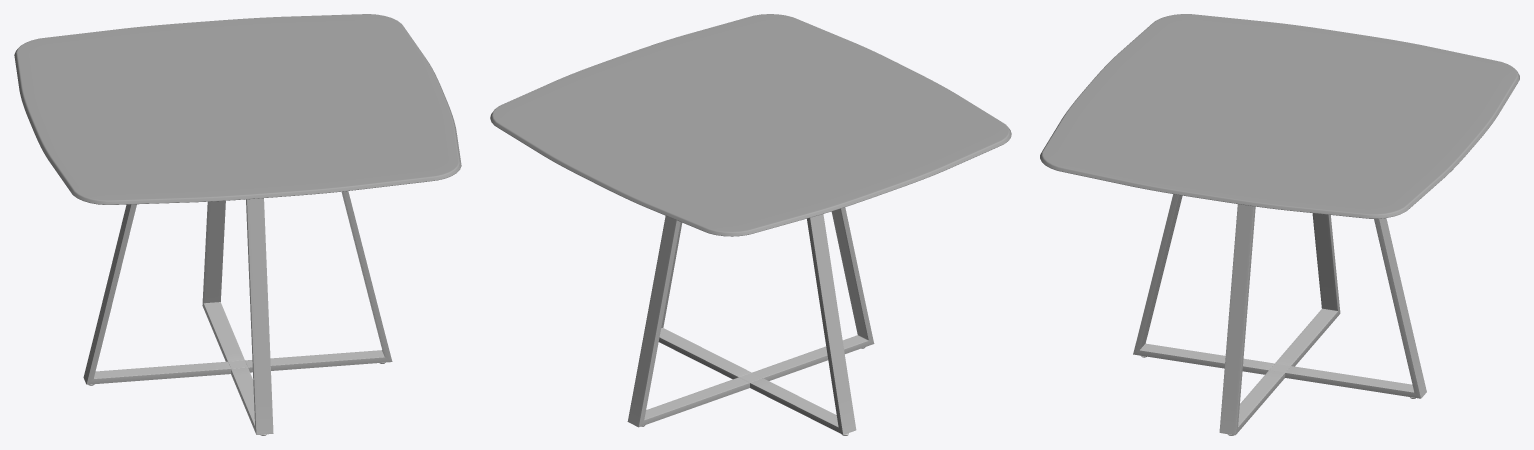
Rendered from dining_table.gltf.
3 views of the same model, side by side, from view 1: azimuth 30°, elevation 25°; view 2: azimuth 150°, elevation 25°; view 3: azimuth 270°, elevation 25° (orthographic).
Parts seen in each view (by area): view 1: Geode; view 2: Geode; view 3: Geode.
Part boxes in pixels (box(x1,y1,x2,y2)): Geode: box(14, 14, 461, 435); Geode: box(490, 14, 1011, 435); Geode: box(1040, 14, 1519, 435).
Size of the model in its own units: 1.24 by 0.7519 by 1.24.
Materials: 2 (1 with a texture image).
